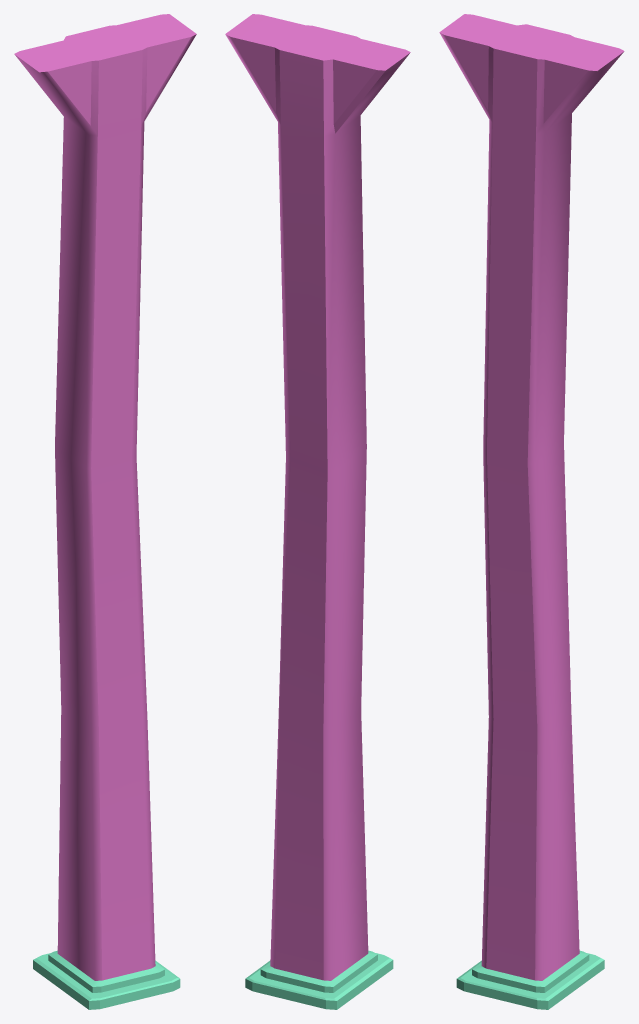
Rendered from Pillar_soutien.fbx.
3 views of the same model, side by side, from view 1: azimuth 30°, elevation 25°; view 2: azimuth 150°, elevation 25°; view 3: azimuth 330°, elevation 25° (orthographic).
Visible parts, largest first — view 1: Object036; view 2: Object036; view 3: Object036.
Boxes of the visible parts, <box> form: Object036: <box>14,14,196,1009</box>; Object036: <box>225,14,410,1009</box>; Object036: <box>439,14,624,1009</box>.
Size of the model in its own units: 0.3442 by 1.95 by 0.2272.
